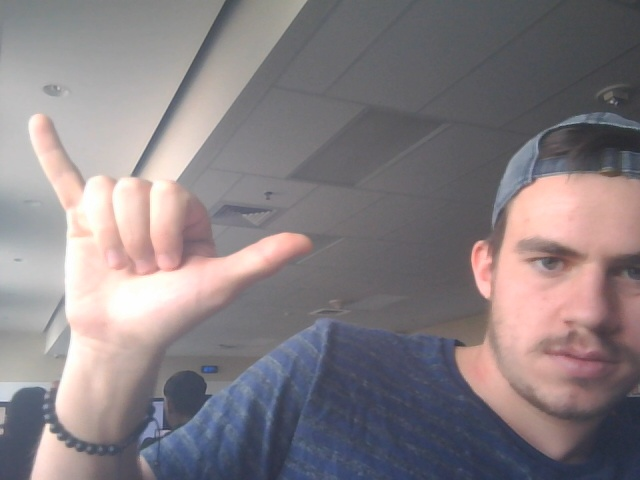birdsup: (23, 111, 321, 359)
